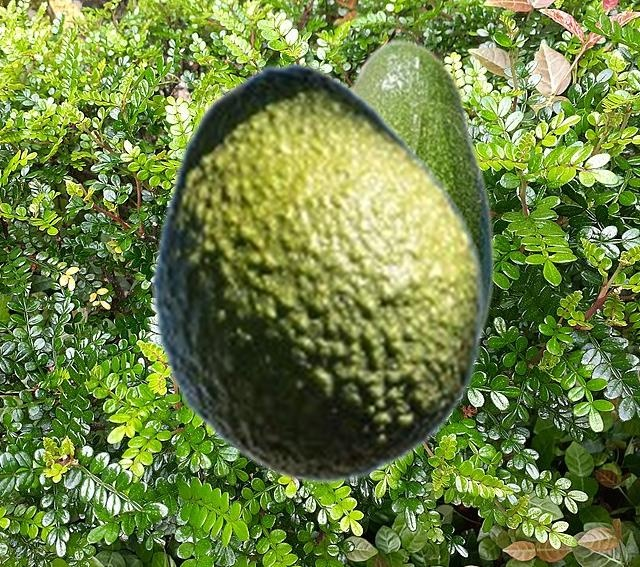avocado: (148, 61, 484, 484), (348, 38, 495, 339)
